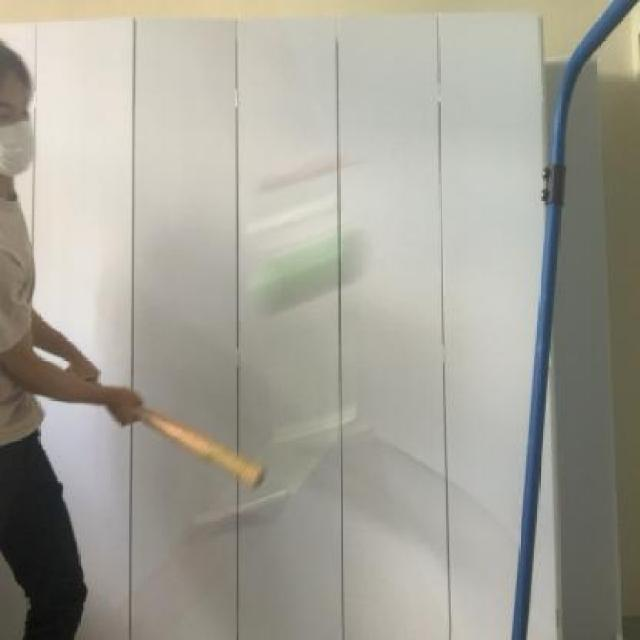baseball: (244, 205, 371, 364)
